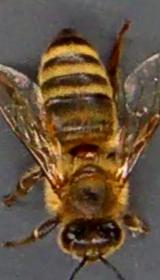varroa_mite: (66, 145, 100, 160)
